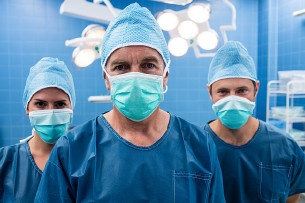Mask: (103, 54, 168, 120)
